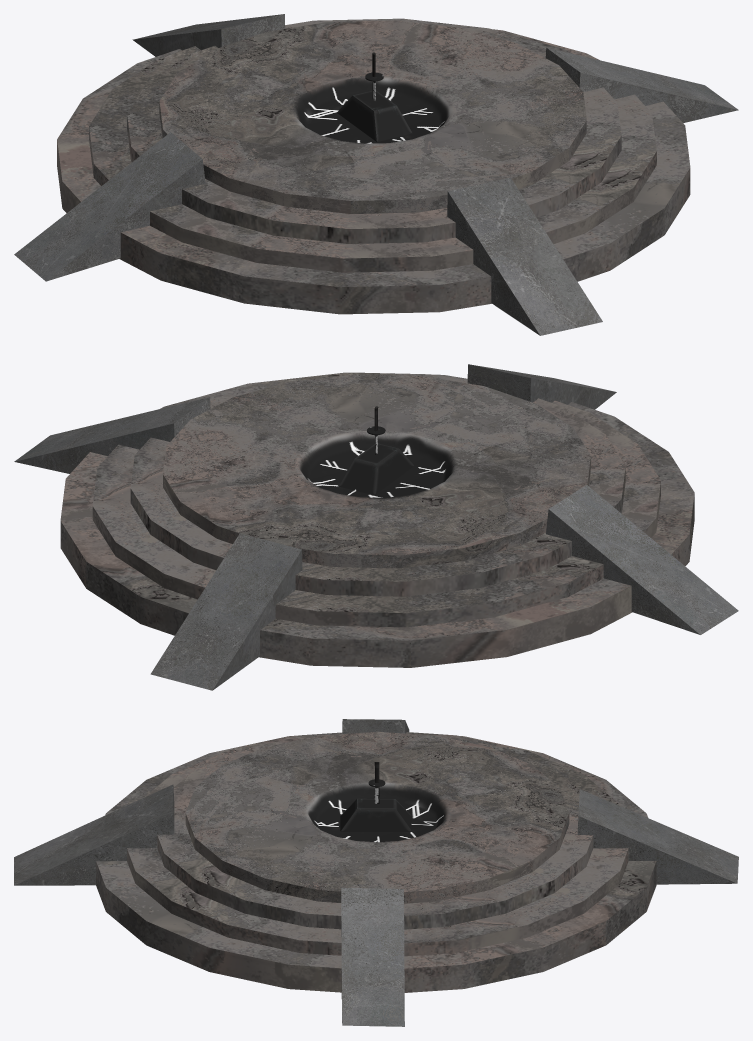
The model's file is the_dark_altar.glb.
The picture shows the model from 3 angles, top to bottom: view 1: azimuth 30°, elevation 25°; view 2: azimuth 150°, elevation 25°; view 3: azimuth 270°, elevation 25°; orthographic projection. The views are drawn at different scales.
Visible parts, largest first — view 1: Altar_piece_1, Altar_piece_4, Altar_piece_3, Altar_piece_2, Altar_piece_5, Altar_piece_6, Altar_piece_8, Altar_piece_7, Altar_pedastal; view 2: Altar_piece_1, Altar_piece_4, Altar_piece_3, Altar_piece_2, Altar_piece_7, Altar_piece_6, Altar_piece_8, Altar_piece_5, Altar_pedastal; view 3: Altar_piece_1, Altar_piece_4, Altar_piece_3, Altar_piece_2, Altar_piece_8, Altar_piece_5, Altar_piece_7, Altar_pedastal, Altar_piece_6.
Part boxes in pixels (x1=…): Altar_piece_1: x1=159, y1=20, x2=586, y2=213; Altar_piece_4: x1=57, y1=29, x2=690, y2=314; Altar_piece_3: x1=89, y1=18, x2=656, y2=272; Altar_piece_2: x1=127, y1=20, x2=621, y2=243; Altar_piece_5: x1=447, y1=177, x2=602, y2=335; Altar_piece_6: x1=14, y1=132, x2=205, y2=281; Altar_piece_8: x1=545, y1=47, x2=738, y2=122; Altar_piece_7: x1=132, y1=14, x2=285, y2=56; Altar_pedastal: x1=337, y1=90, x2=412, y2=141; Altar_piece_1: x1=163, y1=374, x2=590, y2=568; Altar_piece_4: x1=60, y1=372, x2=694, y2=667; Altar_piece_3: x1=92, y1=373, x2=660, y2=627; Altar_piece_2: x1=130, y1=372, x2=625, y2=596; Altar_piece_7: x1=150, y1=533, x2=302, y2=690; Altar_piece_6: x1=546, y1=485, x2=738, y2=634; Altar_piece_8: x1=14, y1=397, x2=210, y2=473; Altar_piece_5: x1=467, y1=364, x2=616, y2=409; Altar_pedastal: x1=339, y1=443, x2=414, y2=495; Altar_piece_1: x1=185, y1=731, x2=569, y2=903; Altar_piece_4: x1=96, y1=735, x2=656, y2=992; Altar_piece_3: x1=127, y1=732, x2=628, y2=956; Altar_piece_2: x1=157, y1=732, x2=593, y2=929; Altar_piece_8: x1=341, y1=887, x2=404, y2=1026; Altar_piece_5: x1=14, y1=784, x2=174, y2=885; Altar_piece_7: x1=577, y1=789, x2=738, y2=884; Altar_pedastal: x1=340, y1=798, x2=411, y2=831; Altar_piece_6: x1=342, y1=719, x2=409, y2=733.
Bounding box in the file's own units: 1955 × 356 × 1989.
Materials: 4 (4 with a texture image).
